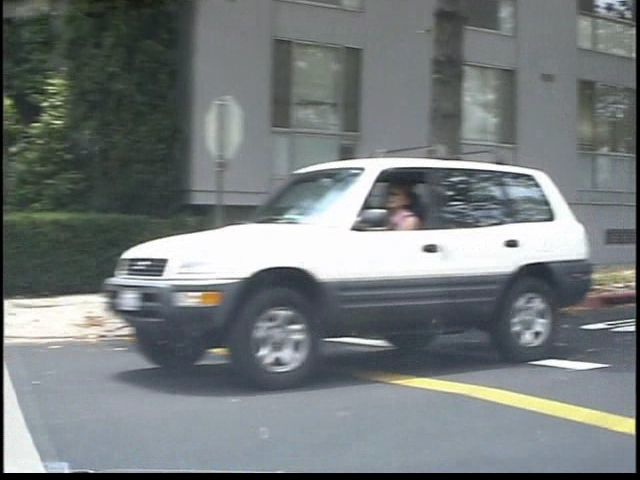person: (398, 174, 449, 366)
